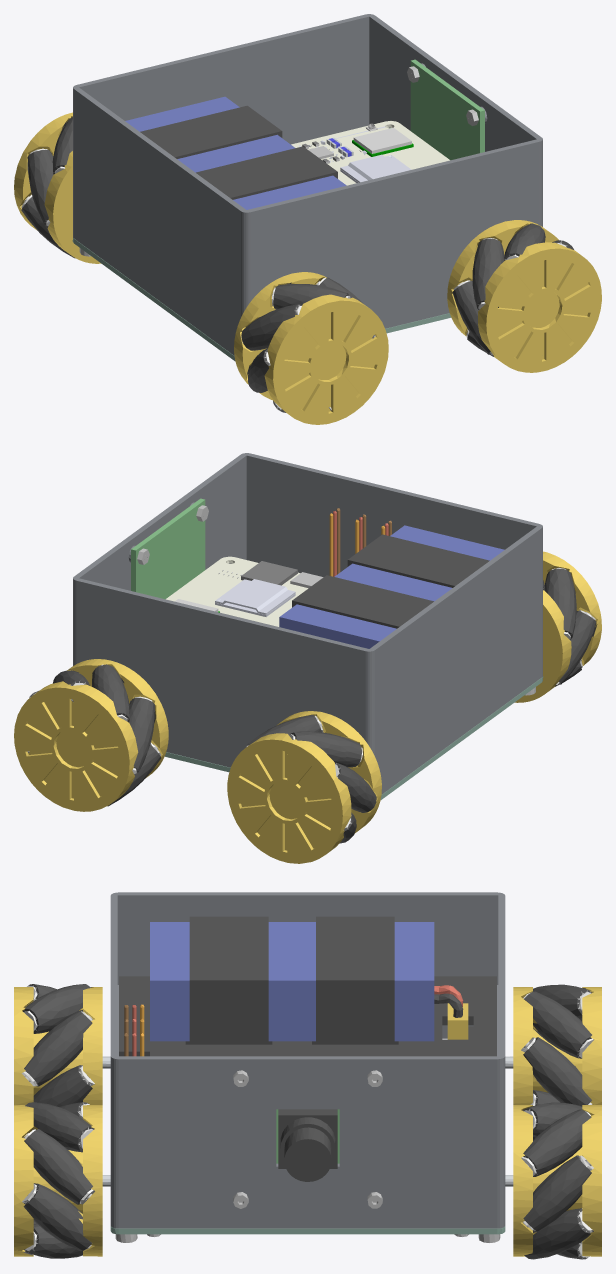
The model's file is payload_car.glb.
The picture shows the model from 3 angles, top to bottom: view 1: azimuth 30°, elevation 25°; view 2: azimuth 150°, elevation 25°; view 3: azimuth 270°, elevation 25°; orthographic projection. The views are drawn at different scales.
Visible parts, largest first — view 1: chassis__XID_Fairinggrey_30244415D85C4B1C8D3BB42BF5084C6E, front_right_wheel__XID_PlasticMatteYellow_B3758642A6F14B52A2, rear_right_wheel__XID_PlasticMatteYellow_B3758642A6F14B52A24, chassis__XID_PlasticGlossyBlack_9EE4CF794D5F4CA8A7E3591F75F7, chassis__XID_PaintEnamelGlossyGreen_3D7EDEB9A08C4C0B9B869983, chassis__XID_PlasticGlossyBlue_5C9286807DD2495782CCCE87B04BF, rear_left_wheel__XID_PlasticMatteYellow_B3758642A6F14B52A24C, rear_right_wheel__XID_PlasticMatteBlack_F35CB0C6B2C6450BAFC6, front_right_wheel__XID_PlasticMatteBlack_F35CB0C6B2C6450BAFC, chassis__XID_Opaque252255214_82A7ADC96DF842C0941FF7B80C97881, rear_left_wheel__XID_PlasticMatteBlack_F35CB0C6B2C6450BAFC6A, chassis__XID_Opaque80124105_127A068E503147AFBA3A49468FA2EEC9 (+3 smaller); view 2: chassis__XID_Fairinggrey_30244415D85C4B1C8D3BB42BF5084C6E, rear_left_wheel__XID_PlasticMatteYellow_B3758642A6F14B52A24C, front_left_wheel__XID_PlasticMatteYellow_B3758642A6F14B52A24, chassis__XID_PlasticGlossyBlack_9EE4CF794D5F4CA8A7E3591F75F7, chassis__XID_PlasticGlossyBlue_5C9286807DD2495782CCCE87B04BF, chassis__XID_PaintEnamelGlossyGreen_3D7EDEB9A08C4C0B9B869983, rear_right_wheel__XID_PlasticMatteYellow_B3758642A6F14B52A24, front_left_wheel__XID_PlasticMatteBlack_F35CB0C6B2C6450BAFC6, rear_left_wheel__XID_PlasticMatteBlack_F35CB0C6B2C6450BAFC6A, chassis__XID_Opaque252255214_82A7ADC96DF842C0941FF7B80C97881, rear_right_wheel__XID_PlasticMatteBlack_F35CB0C6B2C6450BAFC6, chassis__XID_Opaque202209238_110CF30CD2E741E6A4229C20E1D0F16 (+2 smaller); view 3: chassis__XID_Fairinggrey_30244415D85C4B1C8D3BB42BF5084C6E, chassis__XID_PlasticGlossyBlack_9EE4CF794D5F4CA8A7E3591F75F7, chassis__XID_PlasticGlossyBlue_5C9286807DD2495782CCCE87B04BF, chassis__XID_PlasticMatteBlack_F35CB0C6B2C6450BAFC6ADA819B97, front_right_wheel__XID_PlasticMatteBlack_F35CB0C6B2C6450BAFC, front_left_wheel__XID_PlasticMatteBlack_F35CB0C6B2C6450BAFC6, rear_right_wheel__XID_PlasticMatteBlack_F35CB0C6B2C6450BAFC6, rear_left_wheel__XID_PlasticMatteBlack_F35CB0C6B2C6450BAFC6A, front_right_wheel__XID_PlasticMatteYellow_B3758642A6F14B52A2, front_left_wheel__XID_PlasticMatteYellow_B3758642A6F14B52A24, rear_left_wheel__XID_PlasticMatteYellow_B3758642A6F14B52A24C, rear_right_wheel__XID_PlasticMatteYellow_B3758642A6F14B52A24 (+6 smaller).
Part boxes in pixels (box(x1,y1,x2,y2)): chassis__XID_Fairinggrey_30244415D85C4B1C8D3BB42BF5084C6E: box(73, 14, 542, 355); front_right_wheel__XID_PlasticMatteYellow_B3758642A6F14B52A2: box(447, 220, 601, 372); rear_right_wheel__XID_PlasticMatteYellow_B3758642A6F14B52A24: box(234, 272, 388, 424); chassis__XID_PlasticGlossyBlack_9EE4CF794D5F4CA8A7E3591F75F7: box(140, 105, 337, 199); chassis__XID_PaintEnamelGlossyGreen_3D7EDEB9A08C4C0B9B869983: box(390, 59, 484, 160); chassis__XID_PlasticGlossyBlue_5C9286807DD2495782CCCE87B04BF: box(125, 96, 346, 209); rear_left_wheel__XID_PlasticMatteYellow_B3758642A6F14B52A24C: box(14, 112, 100, 263); rear_right_wheel__XID_PlasticMatteBlack_F35CB0C6B2C6450BAFC6: box(241, 277, 363, 412); front_right_wheel__XID_PlasticMatteBlack_F35CB0C6B2C6450BAFC: box(452, 223, 573, 356); chassis__XID_Opaque252255214_82A7ADC96DF842C0941FF7B80C97881: box(291, 121, 449, 185); rear_left_wheel__XID_PlasticMatteBlack_F35CB0C6B2C6450BAFC6A: box(21, 117, 75, 258); chassis__XID_Opaque80124105_127A068E503147AFBA3A49468FA2EEC9: box(72, 238, 451, 361); chassis__XID_Fairinggrey_30244415D85C4B1C8D3BB42BF5084C6E: box(73, 453, 542, 794); rear_left_wheel__XID_PlasticMatteYellow_B3758642A6F14B52A24C: box(227, 711, 381, 863); front_left_wheel__XID_PlasticMatteYellow_B3758642A6F14B52A24: box(14, 659, 168, 811); chassis__XID_PlasticGlossyBlack_9EE4CF794D5F4CA8A7E3591F75F7: box(292, 534, 489, 628); chassis__XID_PlasticGlossyBlue_5C9286807DD2495782CCCE87B04BF: box(279, 525, 504, 648); chassis__XID_PaintEnamelGlossyGreen_3D7EDEB9A08C4C0B9B869983: box(131, 498, 205, 599); rear_right_wheel__XID_PlasticMatteYellow_B3758642A6F14B52A24: box(515, 551, 601, 702); front_left_wheel__XID_PlasticMatteBlack_F35CB0C6B2C6450BAFC6: box(28, 664, 160, 806); rear_left_wheel__XID_PlasticMatteBlack_F35CB0C6B2C6450BAFC6A: box(247, 715, 376, 843); chassis__XID_Opaque252255214_82A7ADC96DF842C0941FF7B80C97881: box(166, 556, 308, 626); rear_right_wheel__XID_PlasticMatteBlack_F35CB0C6B2C6450BAFC6: box(543, 568, 597, 686); chassis__XID_Opaque202209238_110CF30CD2E741E6A4229C20E1D0F16: box(215, 579, 295, 616); chassis__XID_Fairinggrey_30244415D85C4B1C8D3BB42BF5084C6E: box(110, 892, 505, 1228); chassis__XID_PlasticGlossyBlack_9EE4CF794D5F4CA8A7E3591F75F7: box(189, 916, 463, 1181); chassis__XID_PlasticGlossyBlue_5C9286807DD2495782CCCE87B04BF: box(150, 922, 434, 1041); chassis__XID_PlasticMatteBlack_F35CB0C6B2C6450BAFC6ADA819B97: box(119, 976, 496, 1168); front_right_wheel__XID_PlasticMatteBlack_F35CB0C6B2C6450BAFC: box(23, 1102, 94, 1258); front_left_wheel__XID_PlasticMatteBlack_F35CB0C6B2C6450BAFC6: box(523, 1102, 593, 1259); rear_right_wheel__XID_PlasticMatteBlack_F35CB0C6B2C6450BAFC6: box(22, 984, 92, 1106); rear_left_wheel__XID_PlasticMatteBlack_F35CB0C6B2C6450BAFC6A: box(523, 984, 591, 1106); front_right_wheel__XID_PlasticMatteYellow_B3758642A6F14B52A2: box(14, 1105, 102, 1256); front_left_wheel__XID_PlasticMatteYellow_B3758642A6F14B52A24: box(513, 1105, 601, 1256); rear_left_wheel__XID_PlasticMatteYellow_B3758642A6F14B52A24C: box(513, 987, 601, 1104); rear_right_wheel__XID_PlasticMatteYellow_B3758642A6F14B52A24: box(14, 987, 102, 1104).
Size of the model in its own units: 0.1188 by 0.0608 by 0.149.
